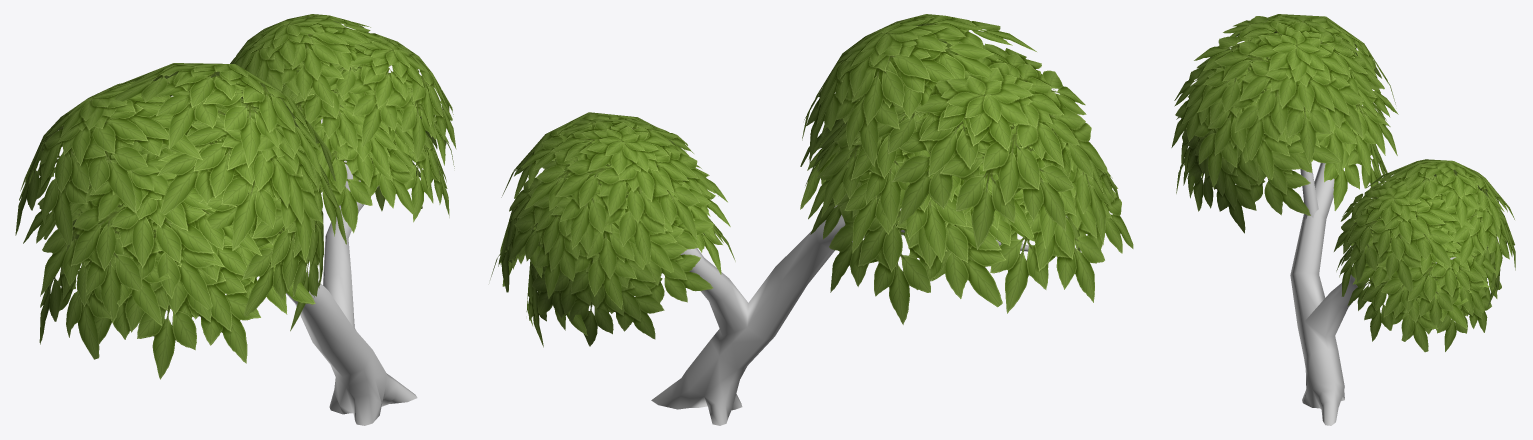
The model's file is Environment_Mesh_Tree2.FBX.
3 renders of one model, left to right at view 1: azimuth 30°, elevation 25°; view 2: azimuth 150°, elevation 25°; view 3: azimuth 270°, elevation 25°, orthographic. The views are drawn at different scales.
Parts seen in each view (by area): view 1: Tree1; view 2: Tree1; view 3: Tree1.
Boxes of the visible parts, <box> form: Tree1: <box>15,14,456,425</box>; Tree1: <box>490,14,1133,425</box>; Tree1: <box>1171,14,1515,425</box>.
Bounding box in the file's own units: 1621 × 1266 × 1325.
